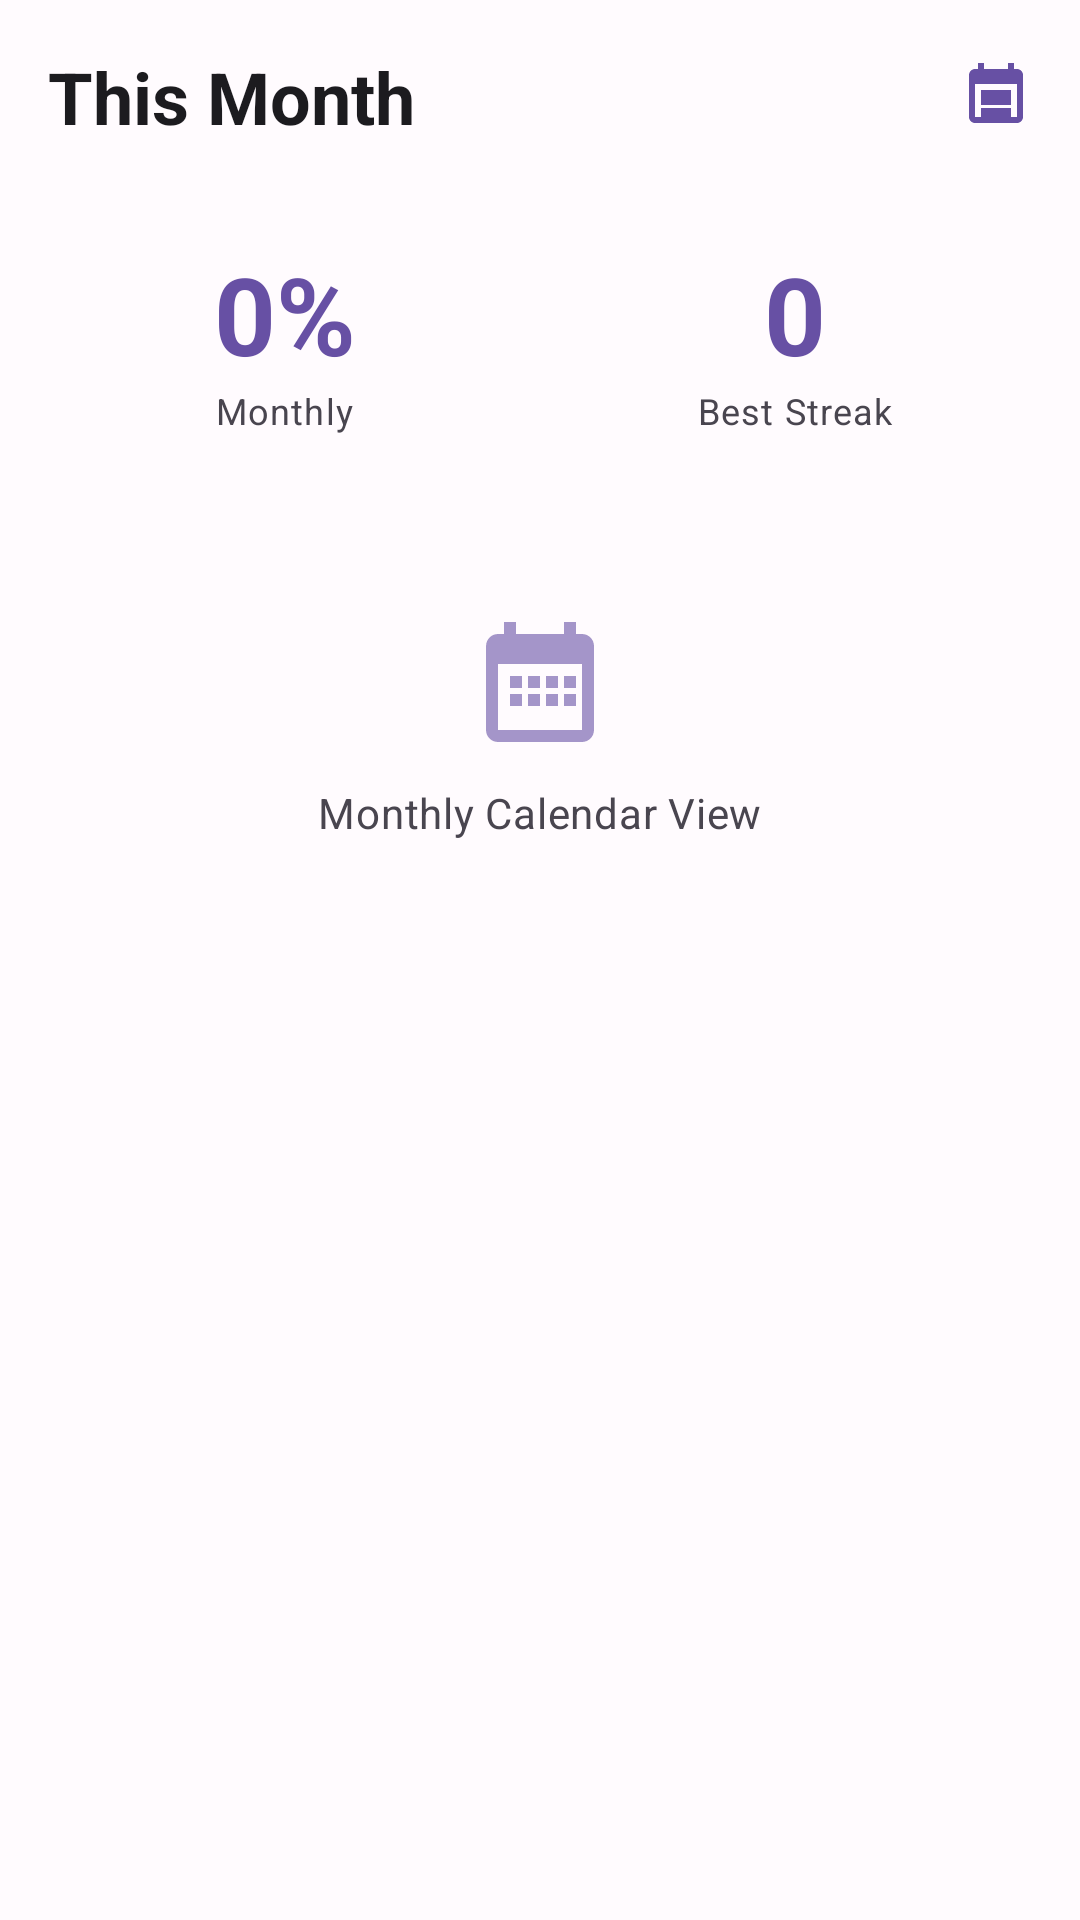

Screen size 1080w x 1920h. Icon name, then its box in pixels as (x1, y1, x2, y2):
calendar grid: (486, 622, 594, 742)
calendar month: (969, 63, 1023, 123)
